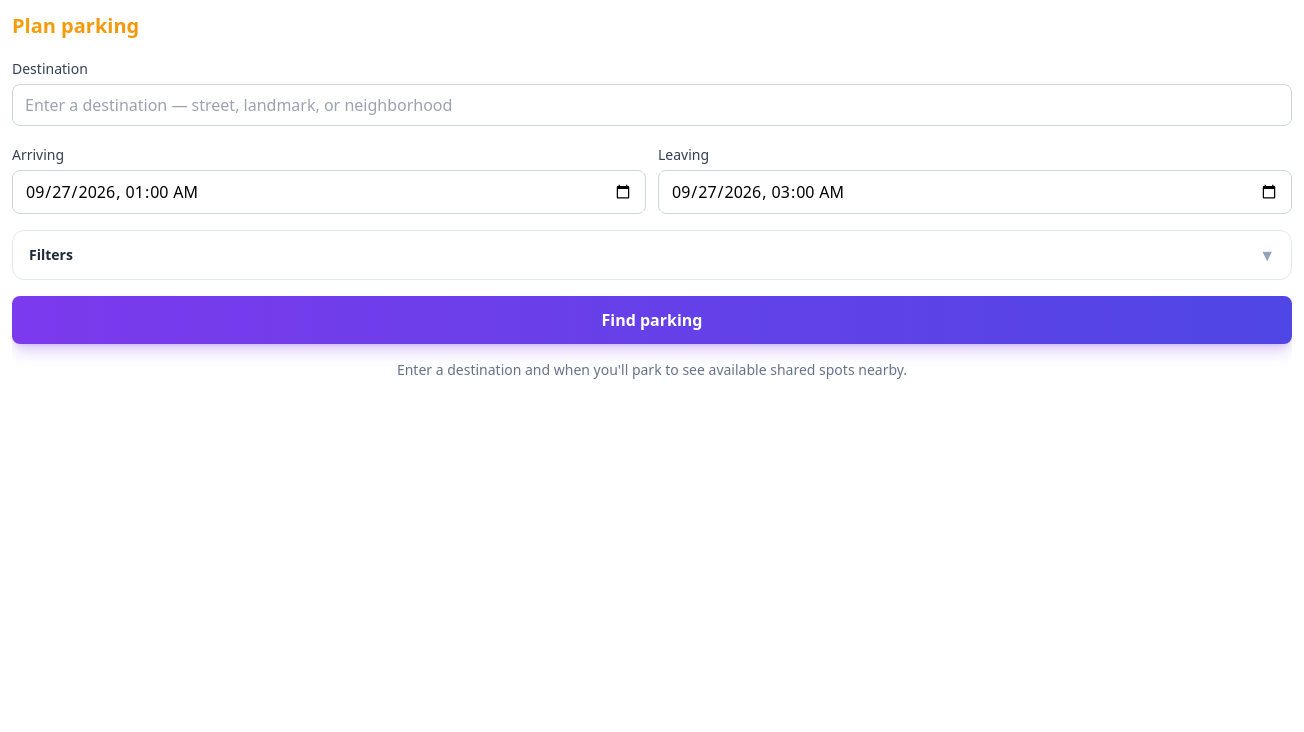
Scenario: Explore › shows an empty state with recovery hints when nothing matches
In the dropdown labelled "Destination": [652, 105] box [12,84,1292,126], type "West"
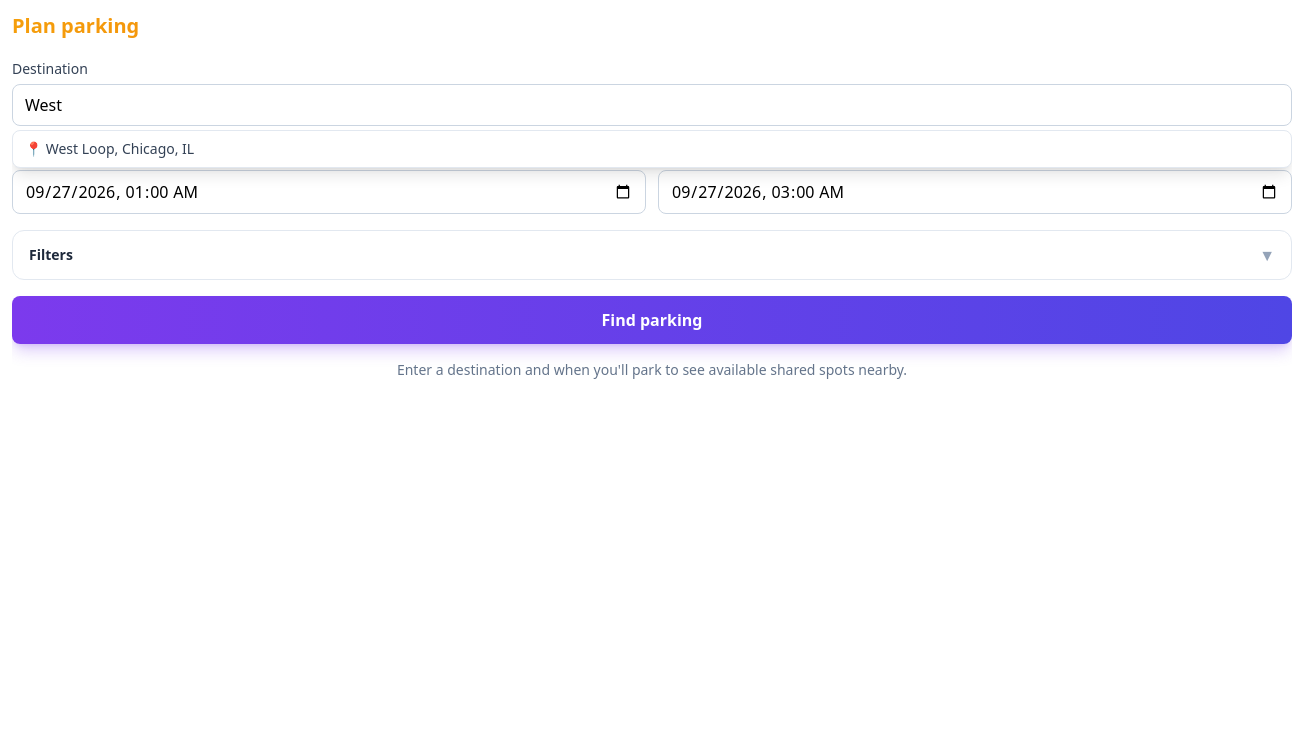
Click the option "📍 West Loop, Chicago, IL": [120, 148] box [13,131,1291,167]
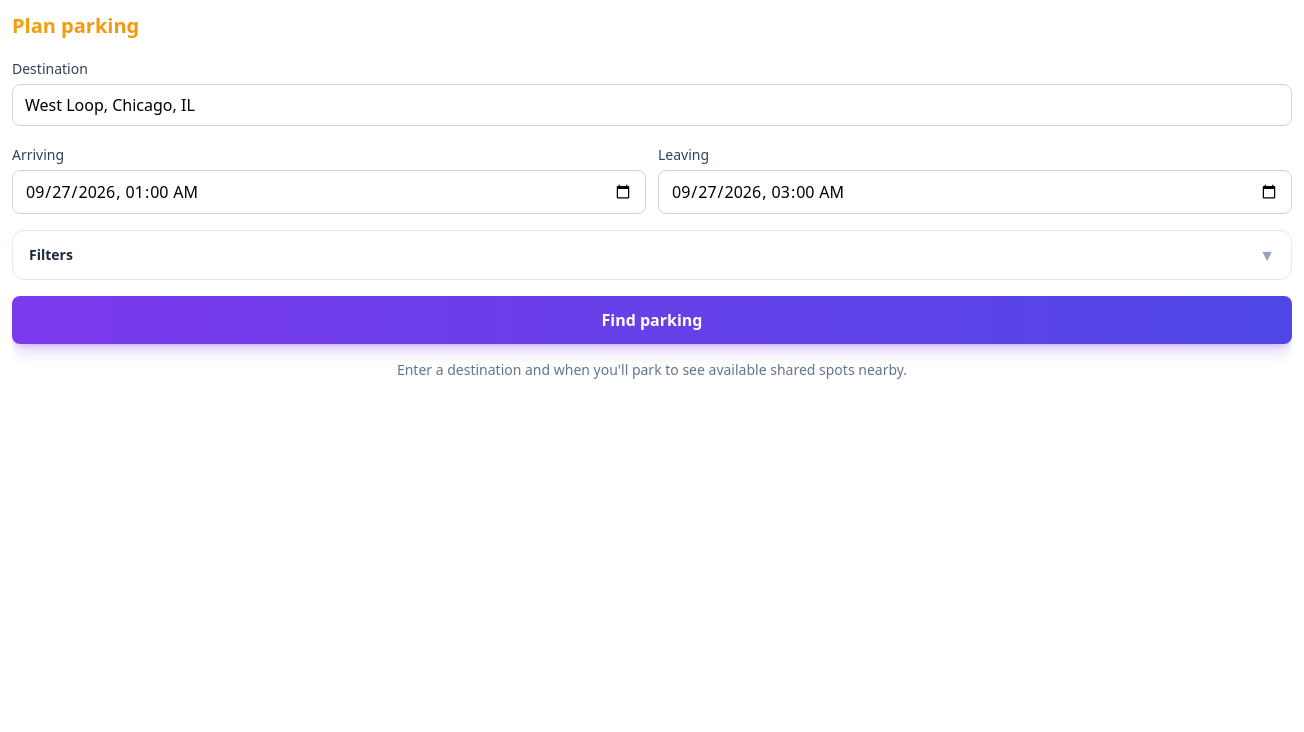
Click the button "Find parking": [652, 320] box [12,296,1292,344]
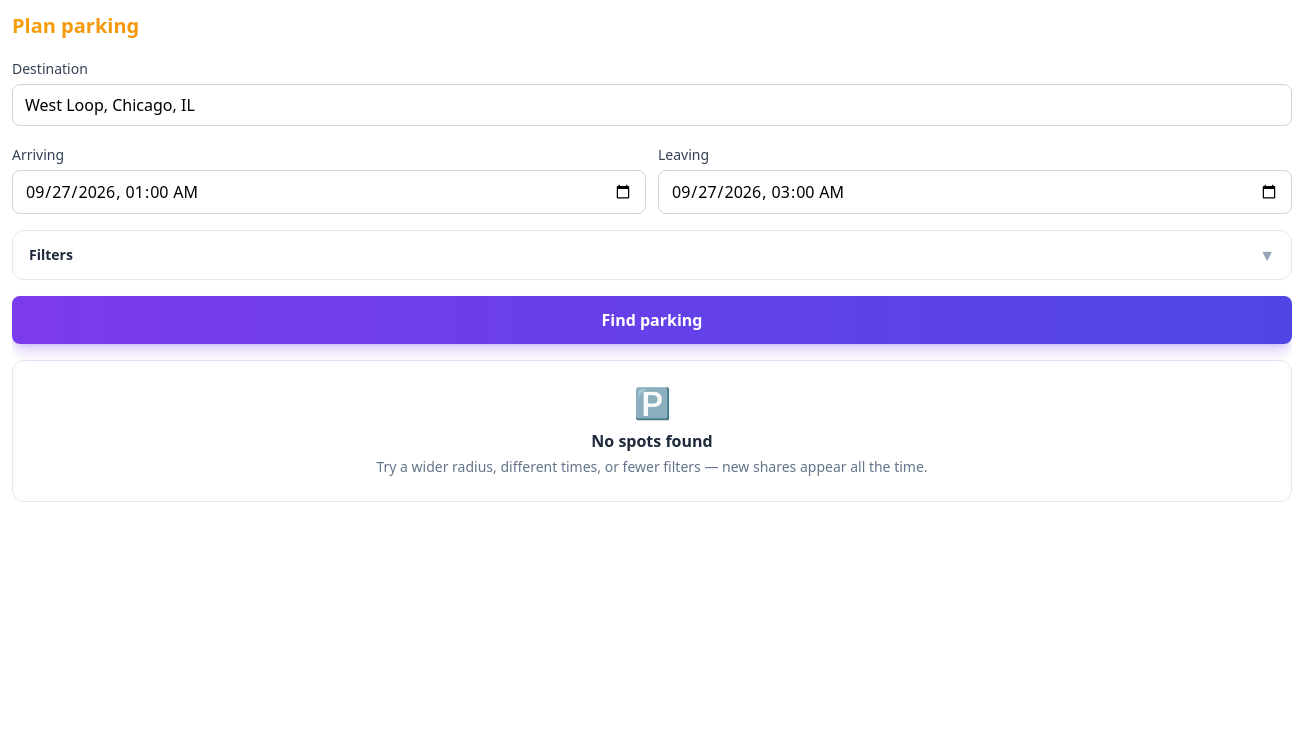
Now the text "No spots found" is shown, box [591,430,713,452]
Now the text "Try a wider radius" is shown, box [376,457,928,476]
